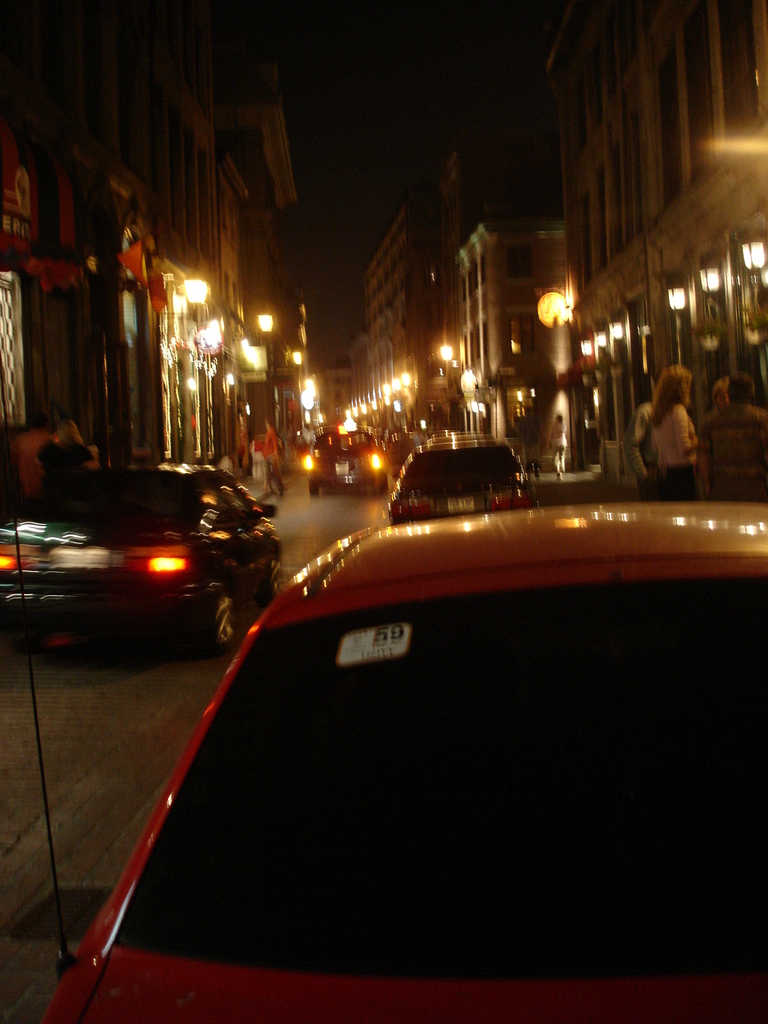Car: (47, 501, 767, 1023), (15, 458, 291, 654), (381, 424, 521, 528), (297, 426, 381, 496)
